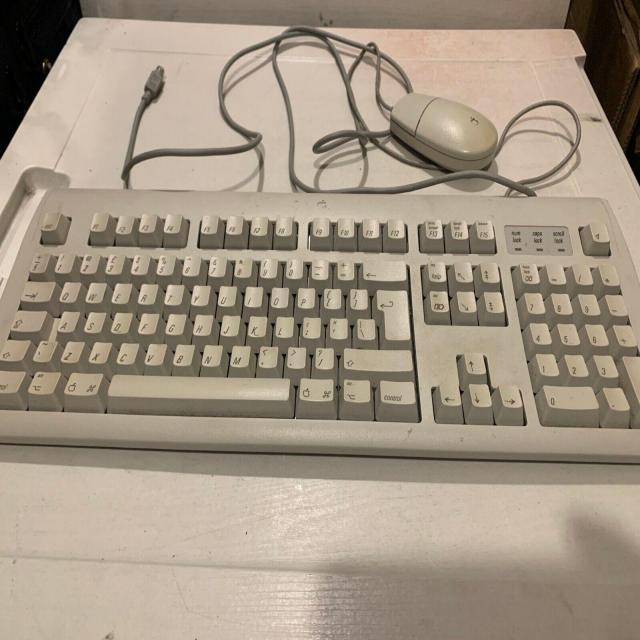keyboard: (0, 187, 640, 465)
